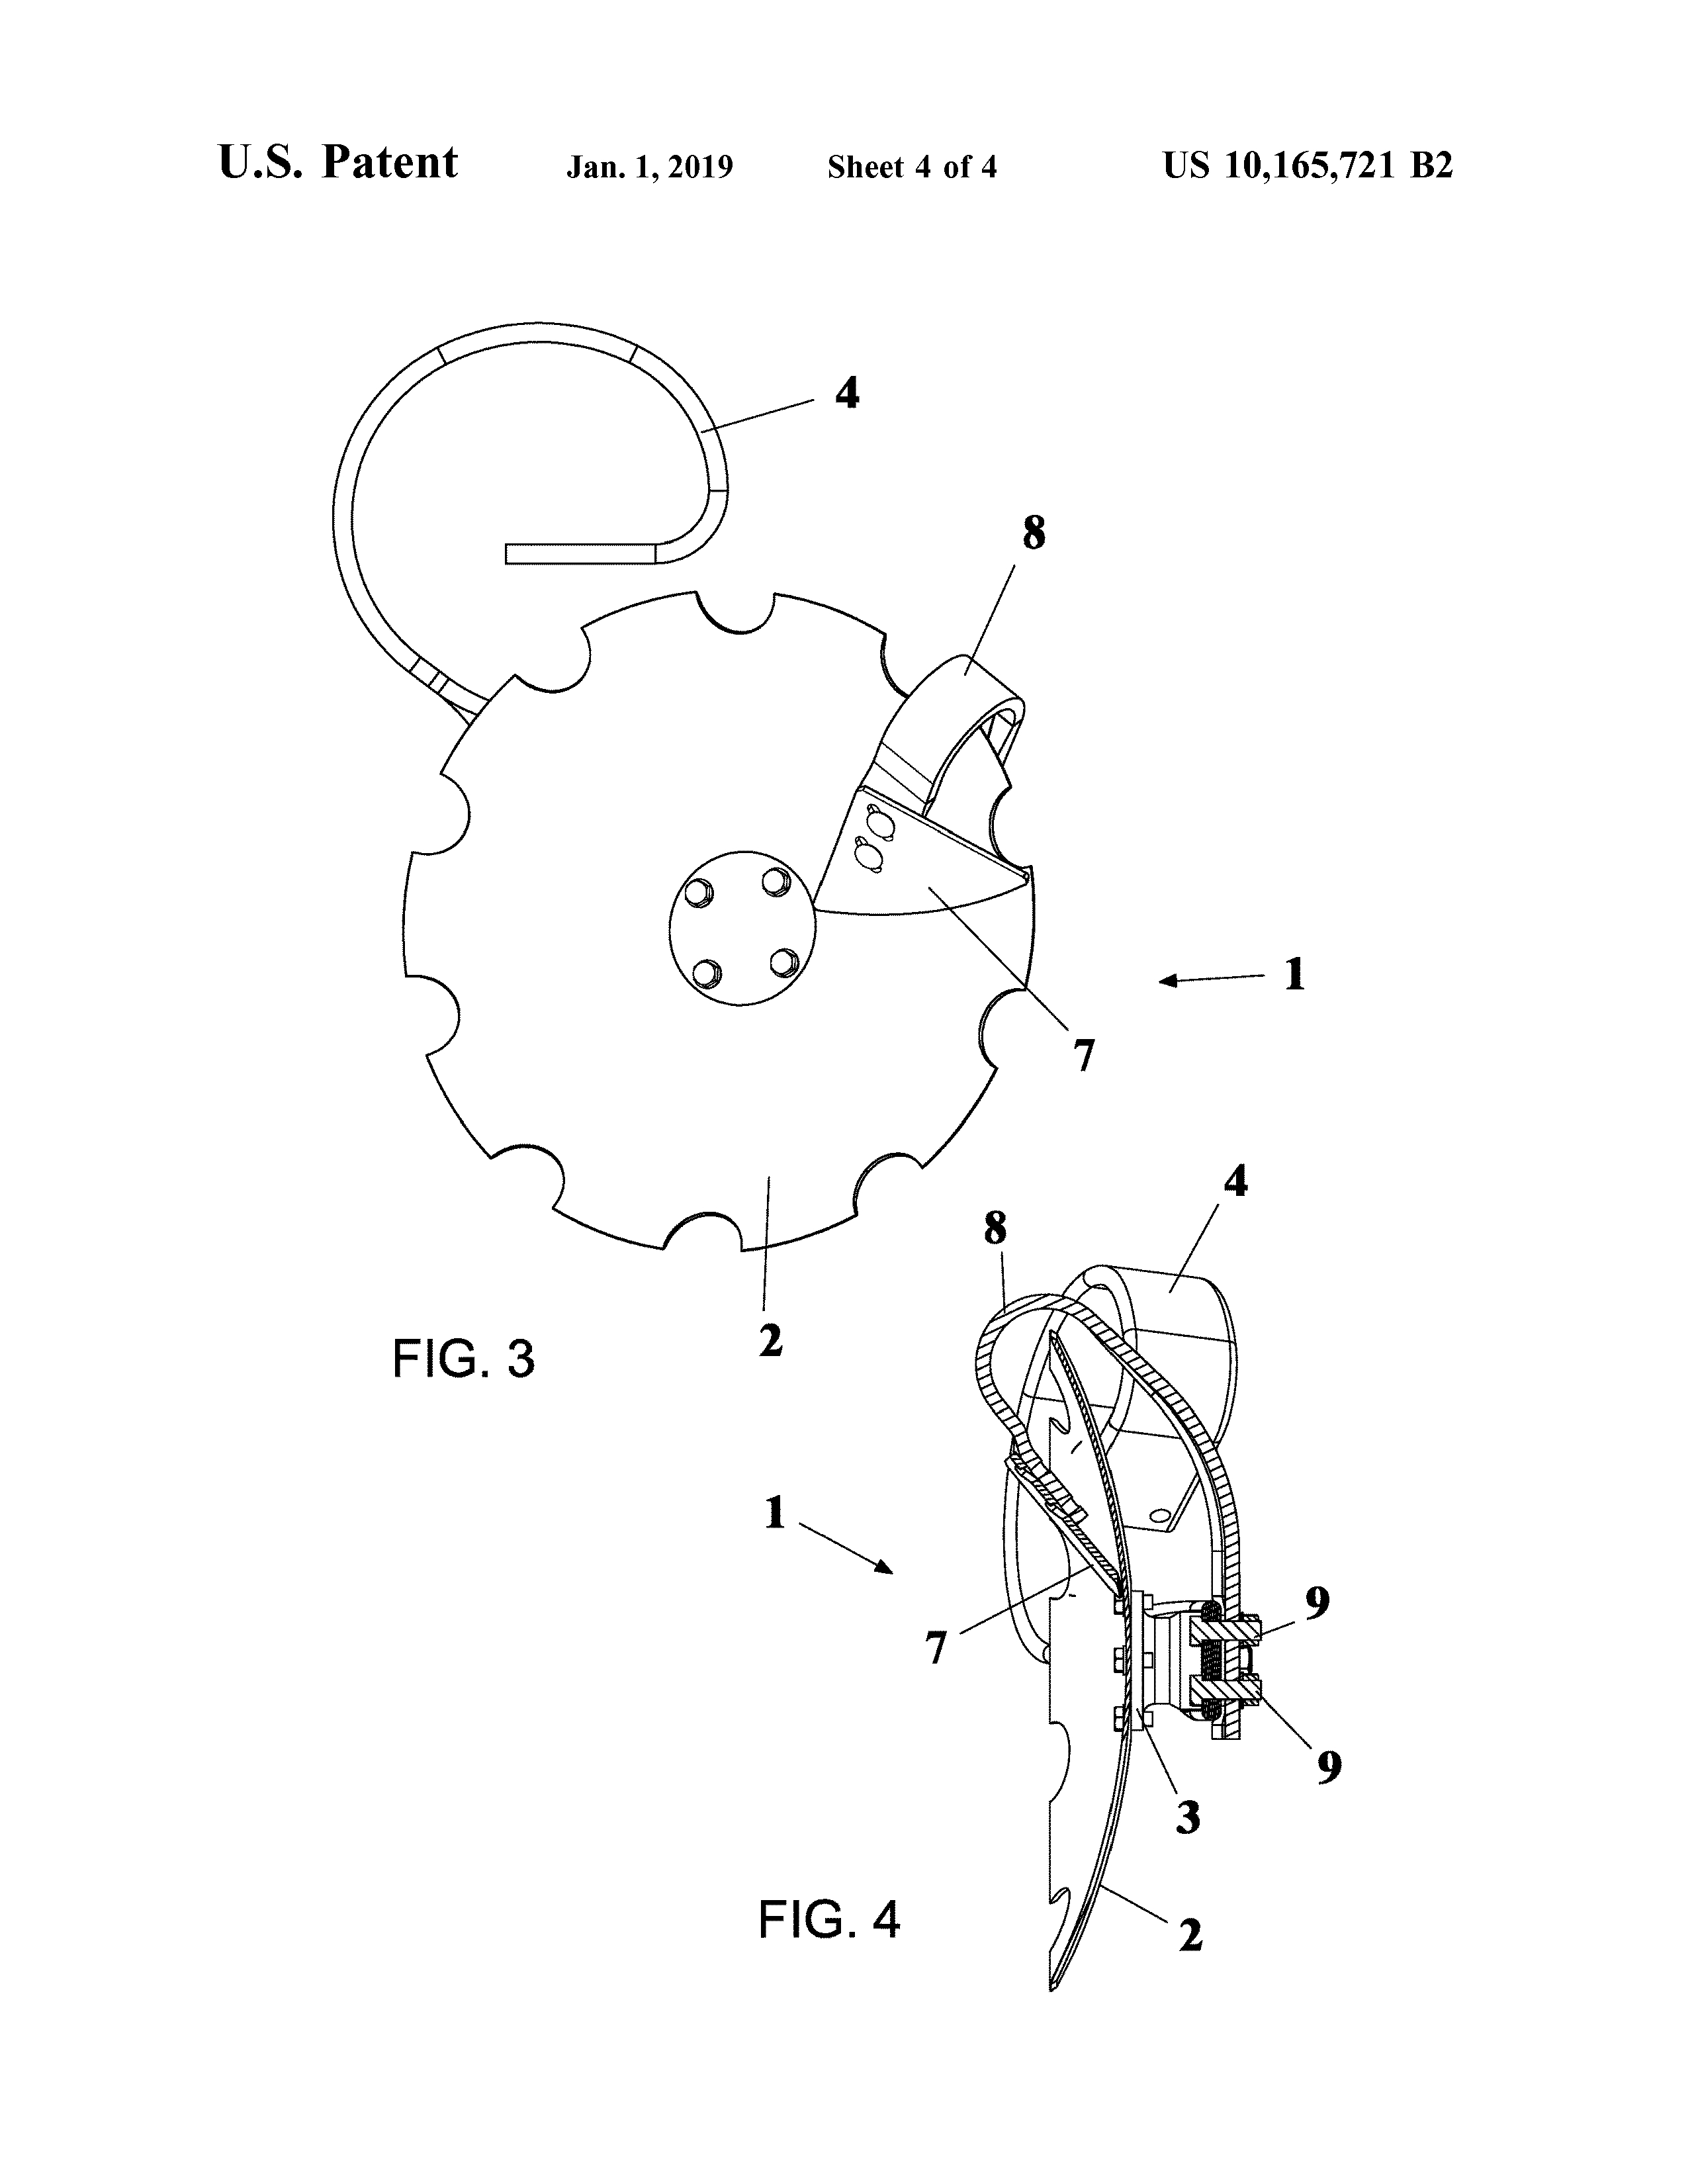patent image: (307, 288, 1349, 1390), (736, 1160, 1386, 2003)
